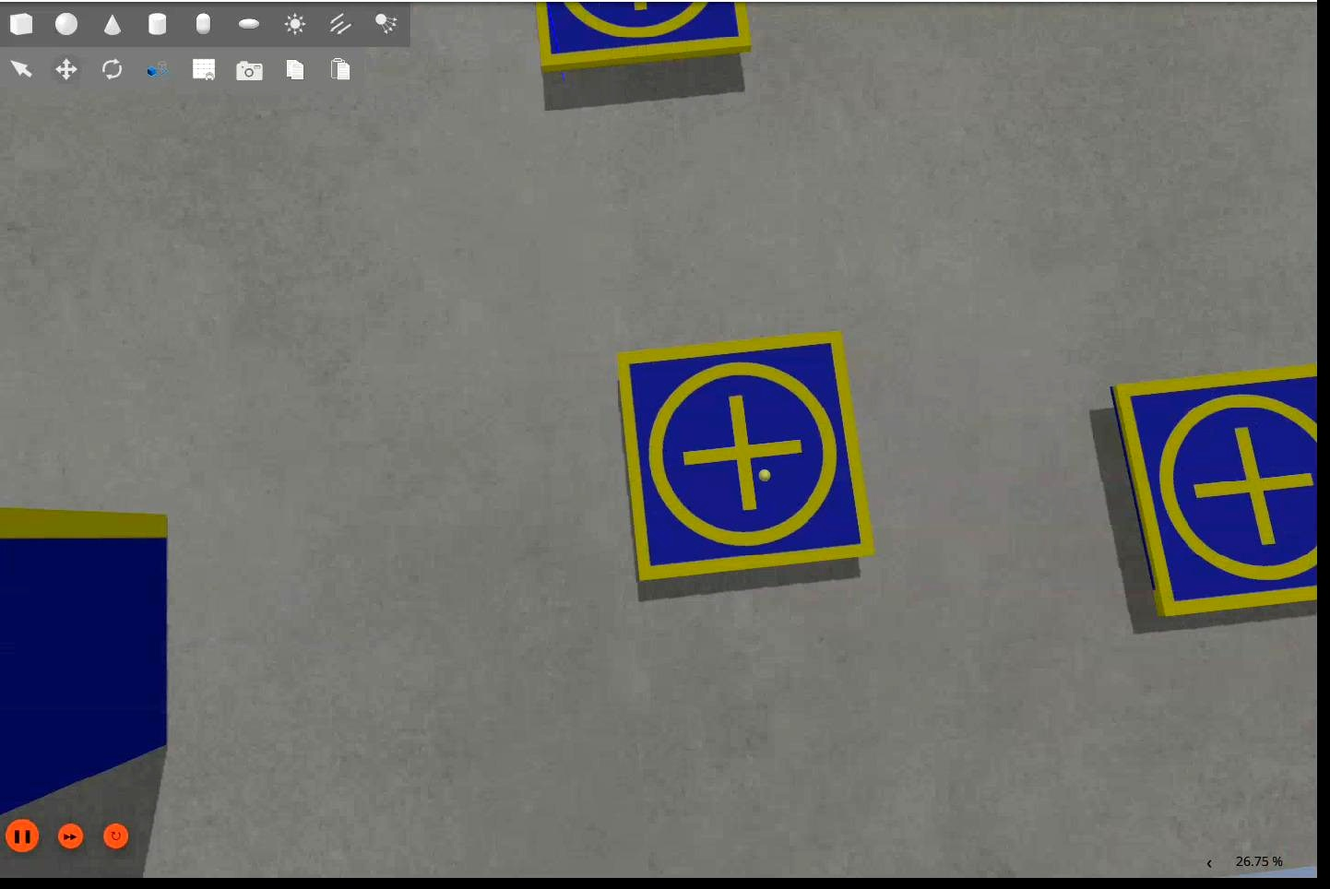small_base: (617, 332, 880, 589), (1109, 363, 1319, 621), (540, 1, 754, 73)
